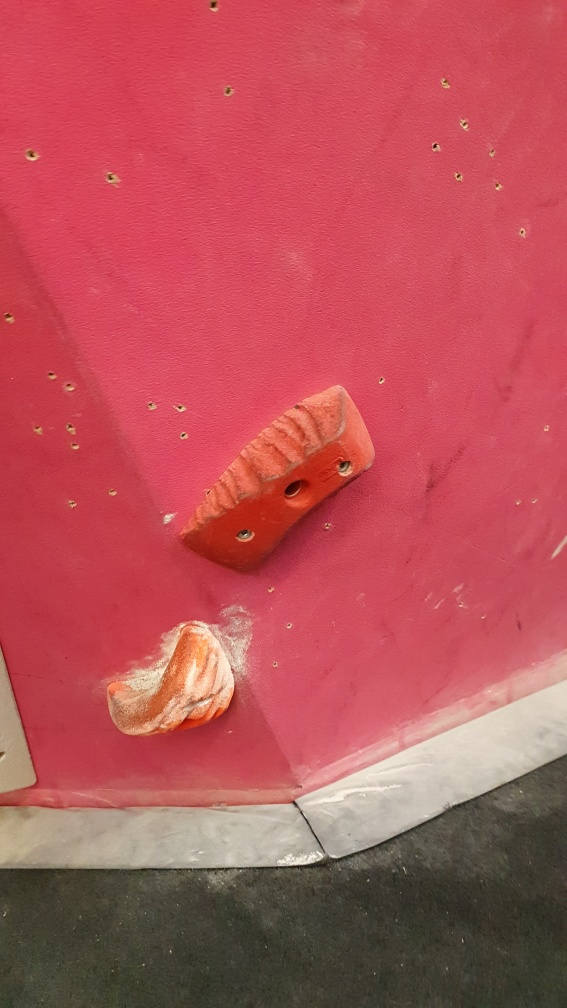Jug: (105, 619, 242, 739)
